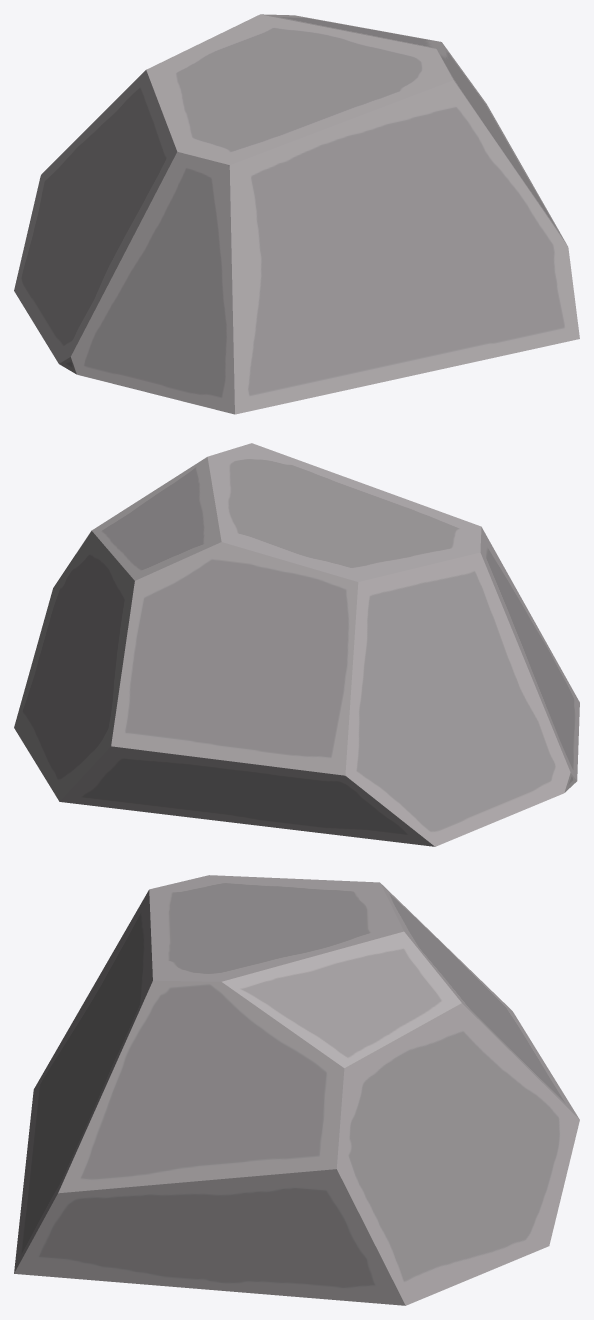
3 renders of one model, top to bottom at view 1: azimuth 30°, elevation 25°; view 2: azimuth 150°, elevation 25°; view 3: azimuth 270°, elevation 25°, orthographic. The views are drawn at different scales.
Visible parts, largest first — view 1: Rock02; view 2: Rock02; view 3: Rock02.
Part boxes in pixels (box(x1,y1,x2,y2)): Rock02: box(14, 14, 579, 414); Rock02: box(14, 443, 579, 846); Rock02: box(14, 875, 579, 1305).
Bounding box in the file's own units: 184 × 87.16 × 169.
